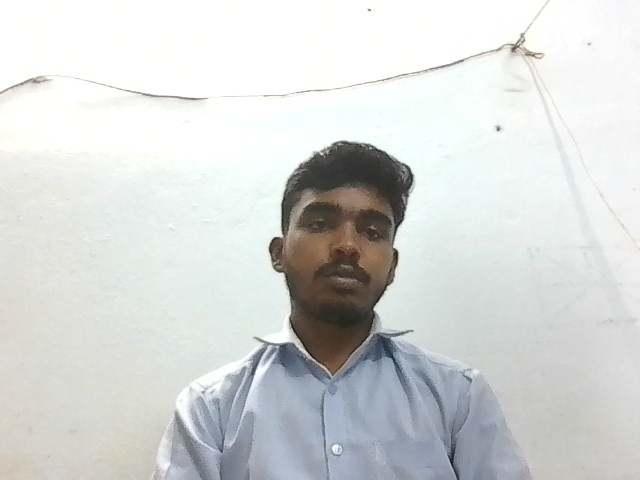real: (276, 140, 404, 321)
